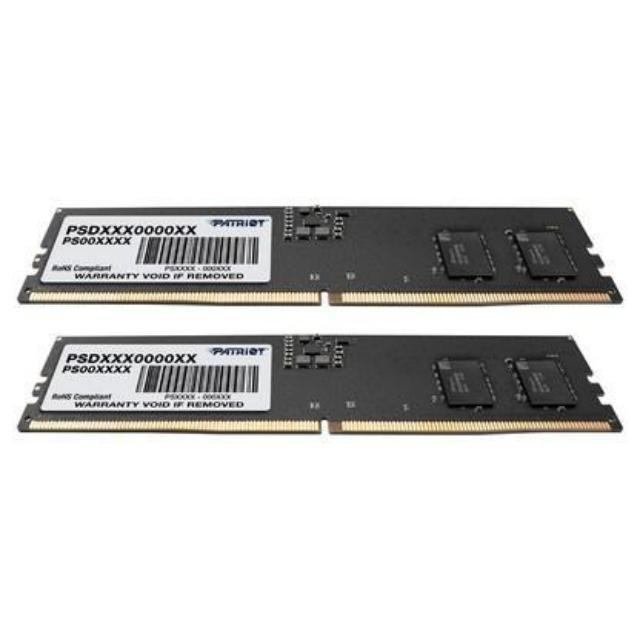RAM: (3, 317, 628, 454), (8, 197, 637, 315)
